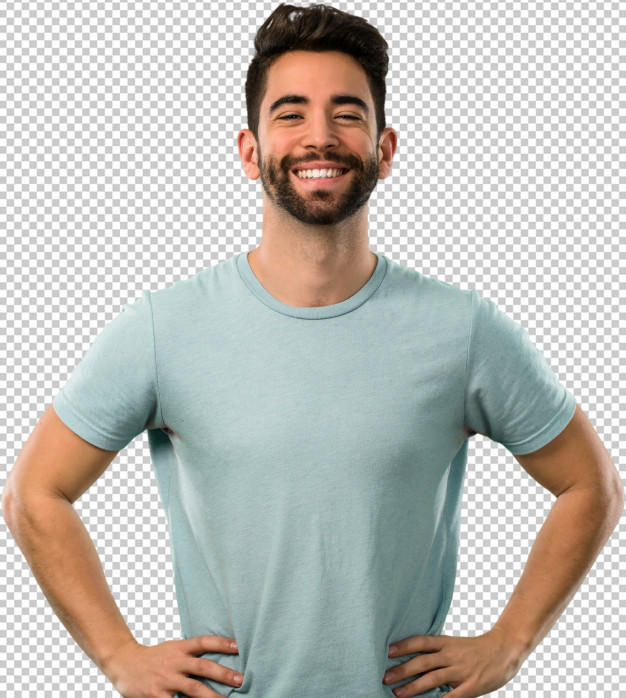Without Helmet: (233, 1, 407, 240)
